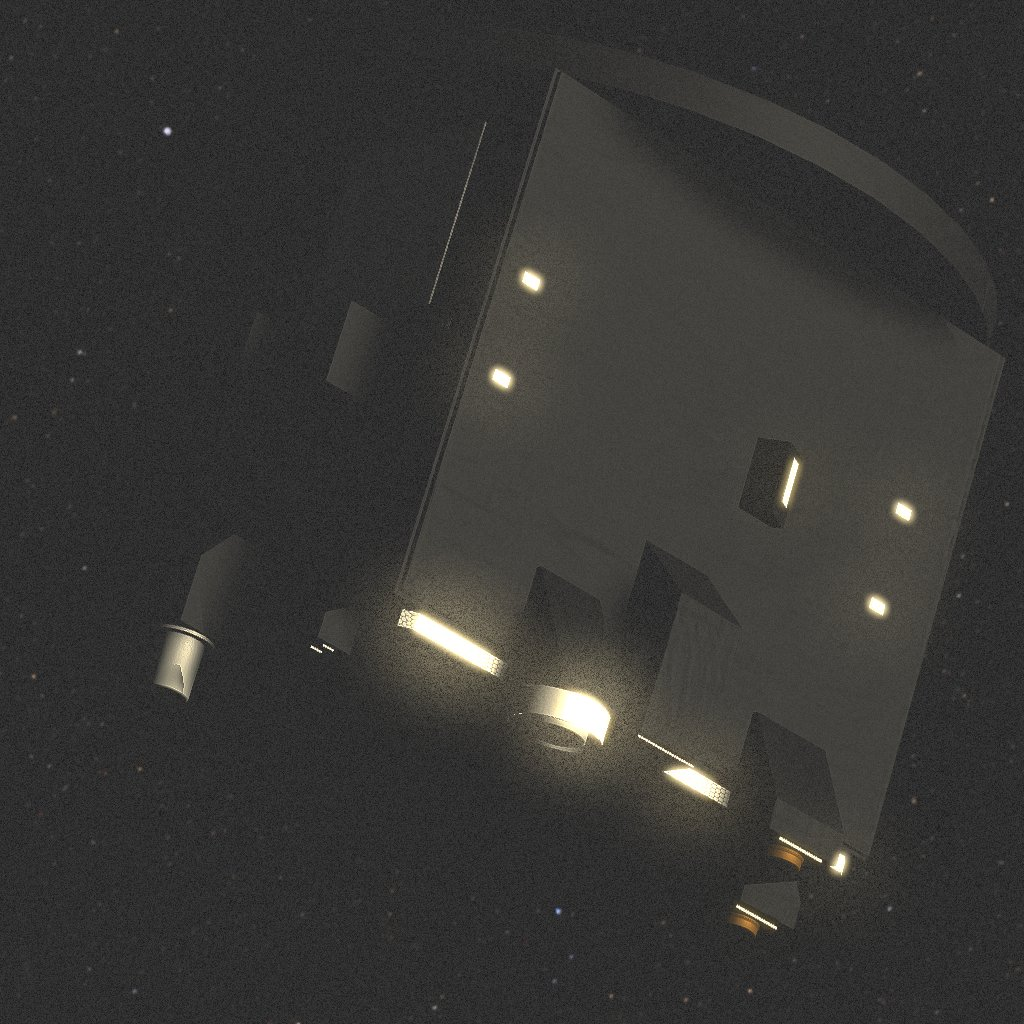proba_3_ocs: (72, 21, 1005, 939)
